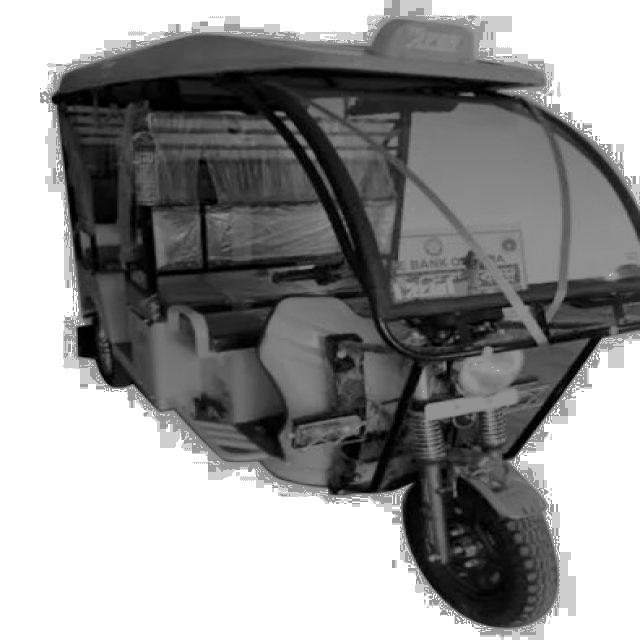Toto: (43, 28, 607, 618)
